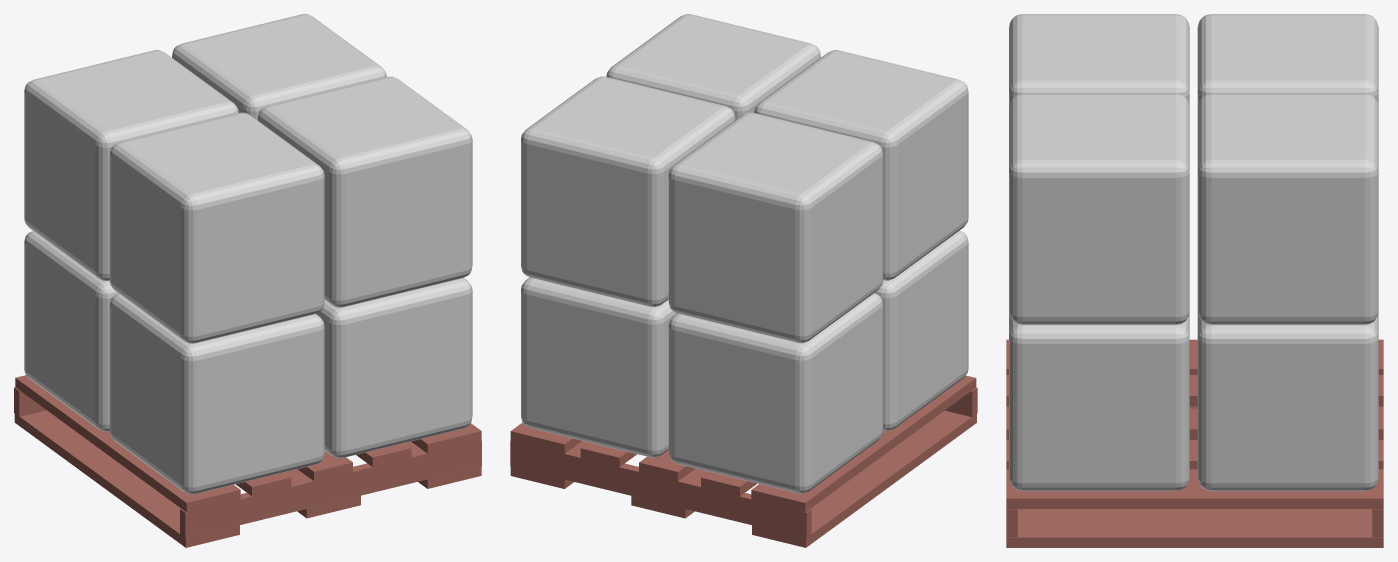
The model's file is Payload.glb.
The picture shows the model from 3 angles, left to right: view 1: azimuth 30°, elevation 25°; view 2: azimuth 150°, elevation 25°; view 3: azimuth 270°, elevation 25°; orthographic projection. The views are drawn at different scales.
Parts seen in each view (by area): view 1: Cube.003, Cube.009; view 2: Cube.003, Cube.009; view 3: Cube.003, Cube.009.
Boxes of the visible parts, x1,y1,x2,y2 form: Cube.003: (24, 14, 472, 494); Cube.009: (14, 375, 481, 547); Cube.003: (521, 14, 968, 493); Cube.009: (510, 375, 977, 547); Cube.003: (1009, 14, 1378, 491); Cube.009: (1006, 339, 1383, 547).
Bounding box in the file's own units: 2.4 × 2.67 × 2.4.
